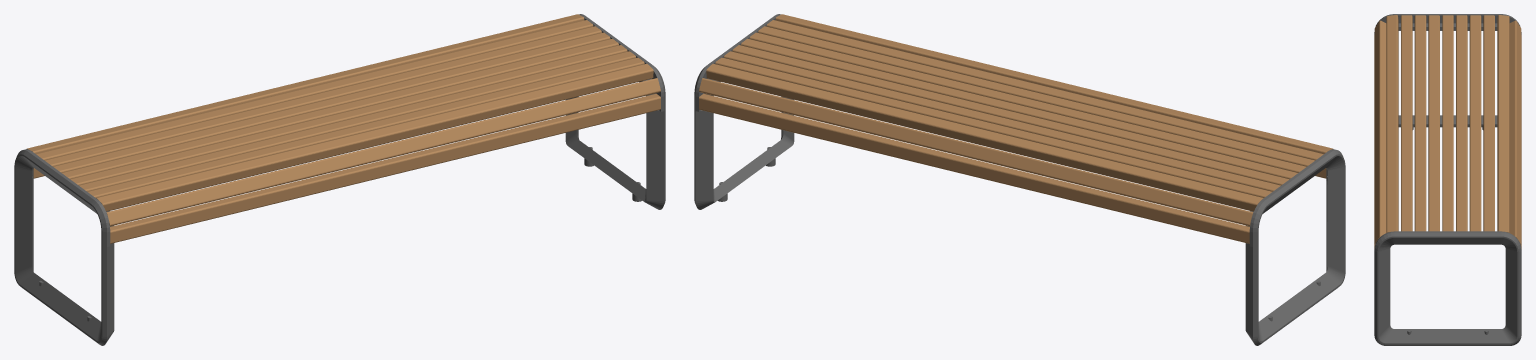
Rendered from Skamya_10.glb.
3 renders of one model, left to right at view 1: azimuth 30°, elevation 25°; view 2: azimuth 150°, elevation 25°; view 3: azimuth 270°, elevation 25°, orthographic. The views are drawn at different scales.
Parts seen in each view (by area): view 1: Fake; view 2: Fake; view 3: Fake.
Part boxes in pixels (x1=…): Fake: x1=14, y1=14, x2=665, y2=345; Fake: x1=694, y1=14, x2=1345, y2=345; Fake: x1=1374, y1=14, x2=1521, y2=345.
Bounding box in the file's own units: 1.8 × 0.4312 × 0.506.
